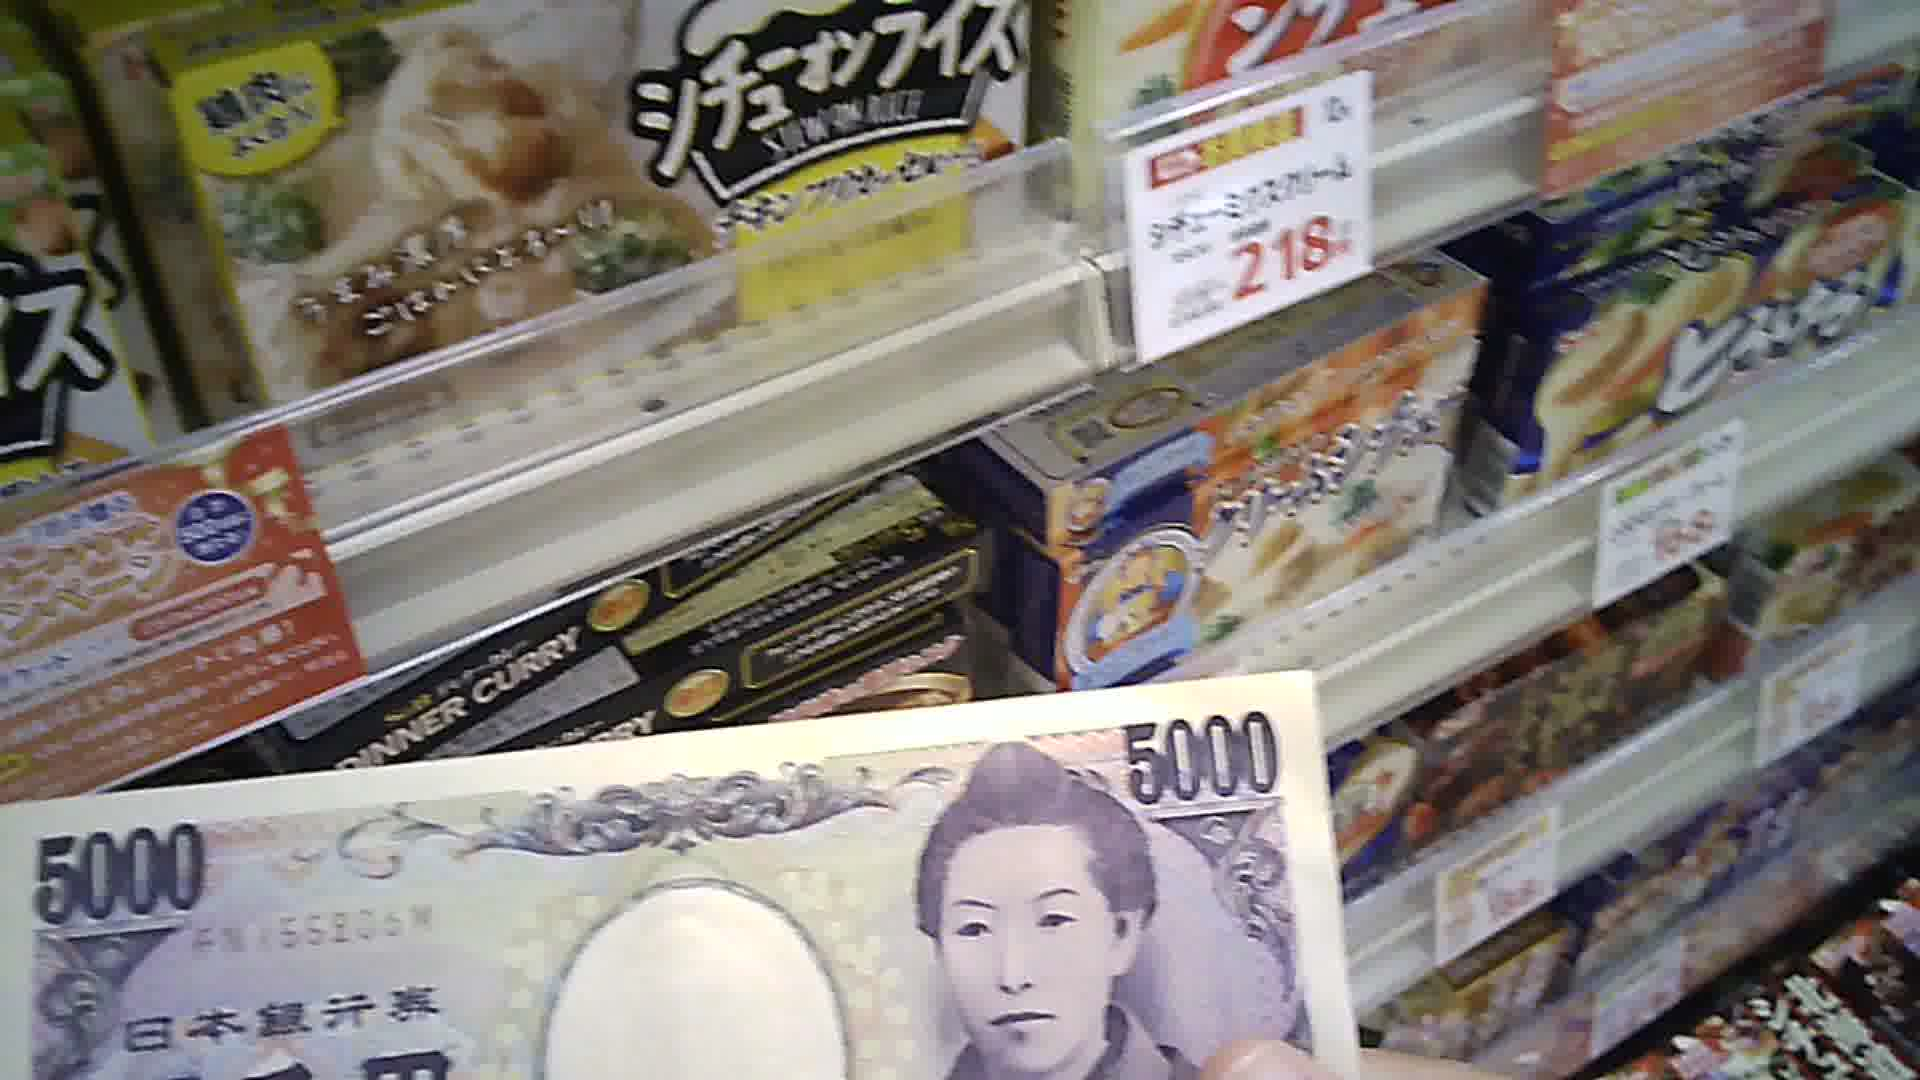5,000 Yen: (1, 655, 1352, 1079)
